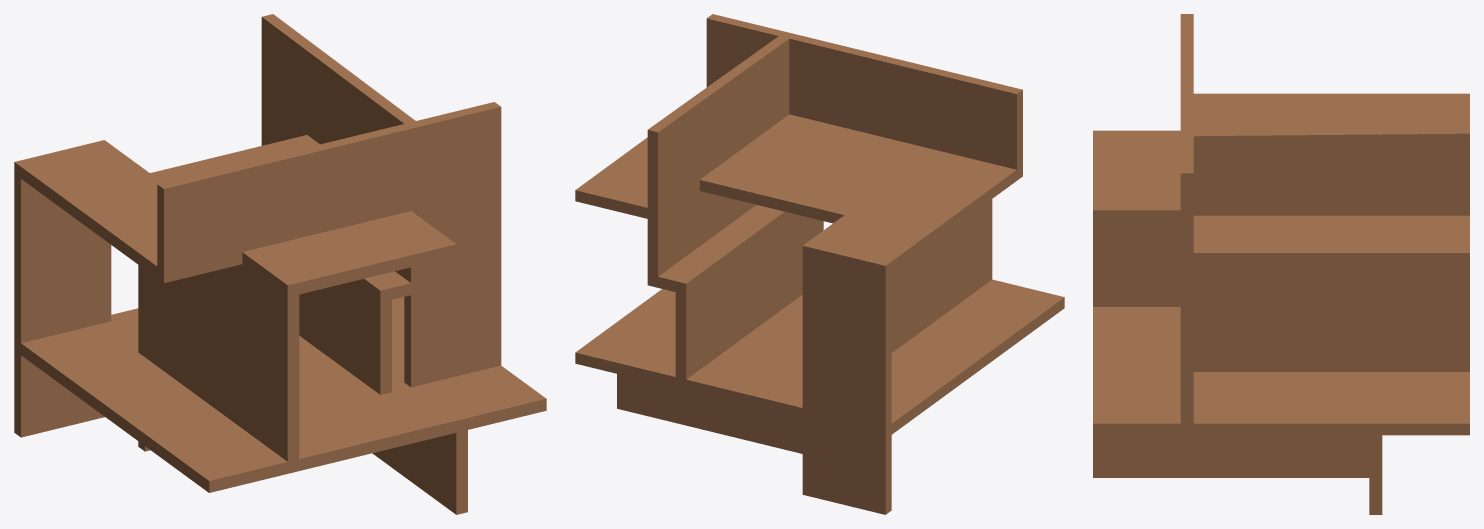
3 views of the same model, side by side, from view 1: azimuth 30°, elevation 25°; view 2: azimuth 150°, elevation 25°; view 3: azimuth 270°, elevation 25° (orthographic). The views are drawn at different scales.
Bounding box in the file's own units: 1 × 1.01 × 1.
